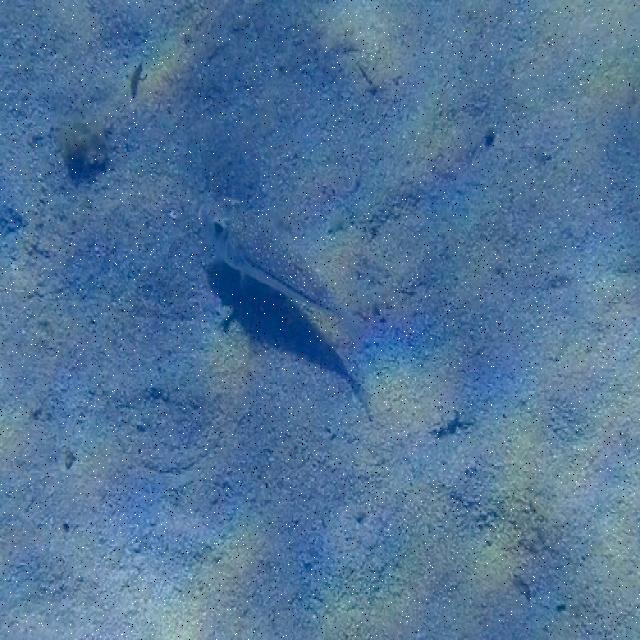Balik: (200, 205, 360, 337)
